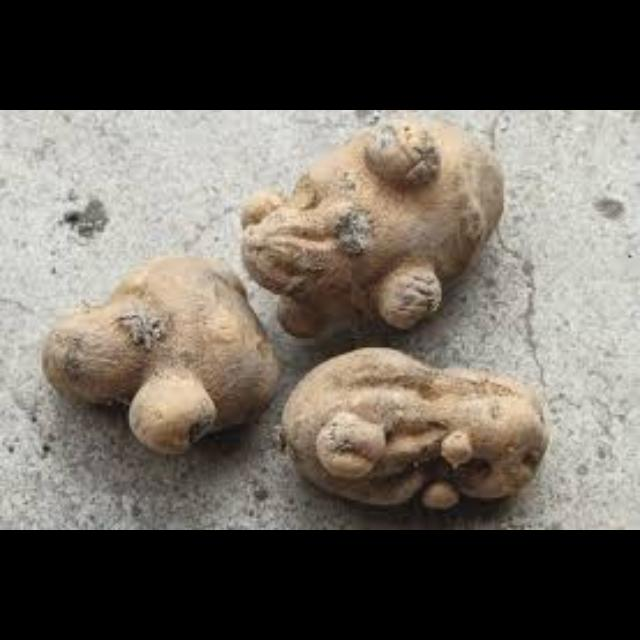Damaged potato: (249, 116, 503, 340), (267, 335, 558, 521), (56, 247, 288, 453)
